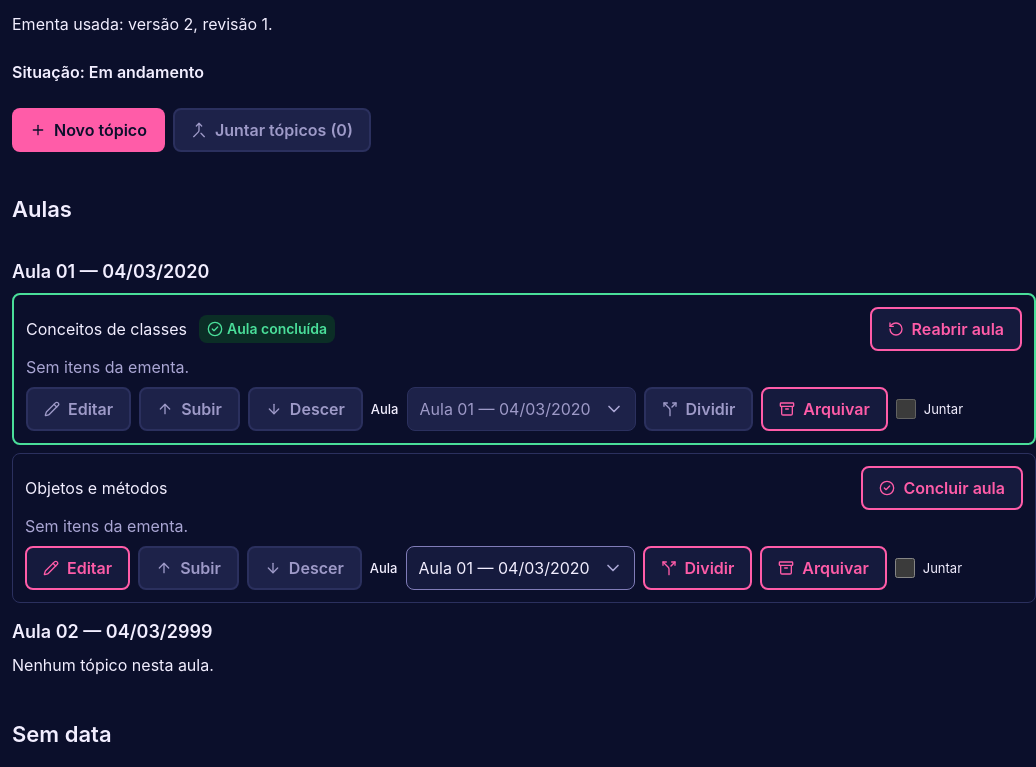
it: 004/US9 aula concluída no planejamento (FR-056 – FR-058) › 004/US9-4 "Reabrir aula" envia a reabertura e libera os controles
Click the button with aria-label "Reabrir aula de Conceitos de classes". click: click(946, 328)
box: [870,306,1022,350]
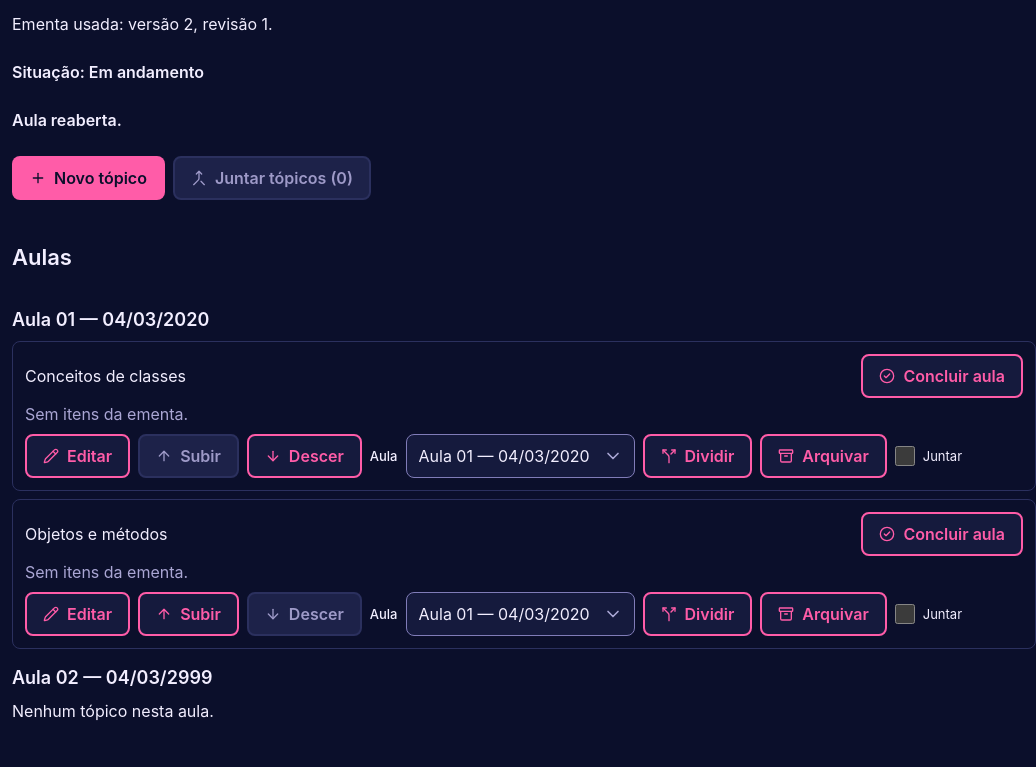
Result: the text "Aula reaberta." is shown at [12,110,122,130]
Result: the button with aria-label "Editar Conceitos de classes" is enabled at [25,434,130,478]
Result: the text "Aula concluída" is gone
